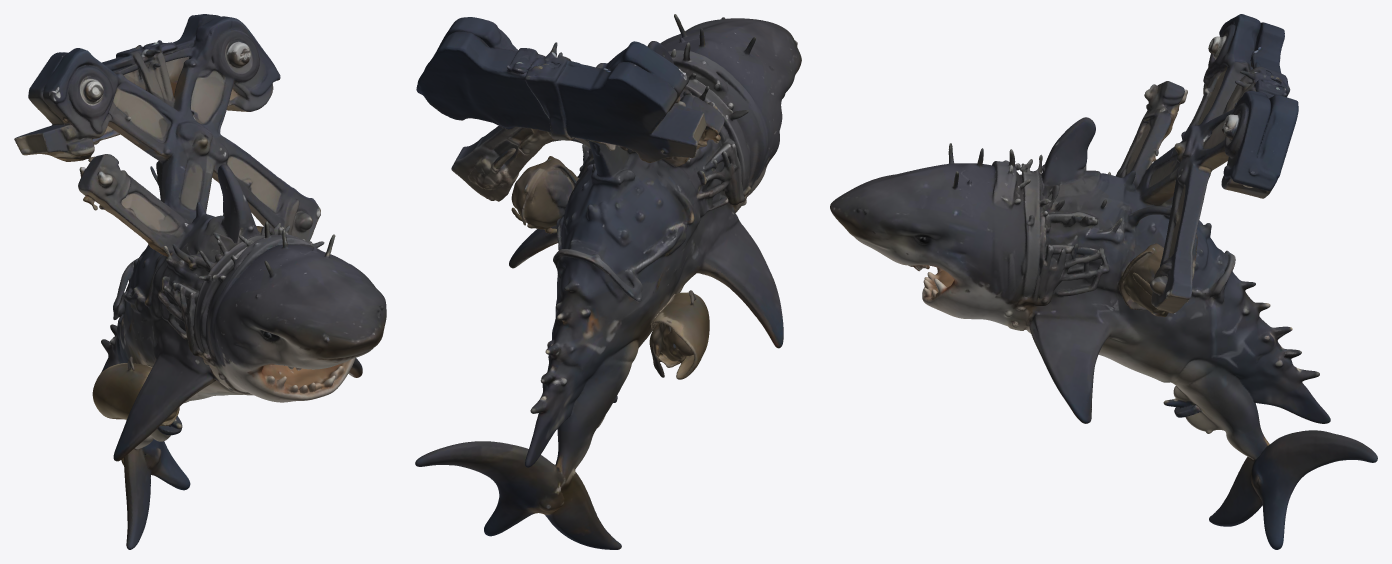
Rendered from hammer_x1.glb.
The picture shows the model from 3 angles, left to right: view 1: azimuth 30°, elevation 25°; view 2: azimuth 150°, elevation 25°; view 3: azimuth 270°, elevation 25°; orthographic projection. The views are drawn at different scales.
Visible parts, largest first — view 1: tripo_node_bd31a32c-eff3-42a9-87c9-c9176b353a00; view 2: tripo_node_bd31a32c-eff3-42a9-87c9-c9176b353a00; view 3: tripo_node_bd31a32c-eff3-42a9-87c9-c9176b353a00.
Part boxes in pixels (x1,y1,x2,y2): tripo_node_bd31a32c-eff3-42a9-87c9-c9176b353a00: (14, 14, 386, 549); tripo_node_bd31a32c-eff3-42a9-87c9-c9176b353a00: (415, 14, 801, 549); tripo_node_bd31a32c-eff3-42a9-87c9-c9176b353a00: (830, 14, 1377, 549).
Size of the model in its own units: 0.5536 by 0.9886 by 1.
1 material, 1 textured.
